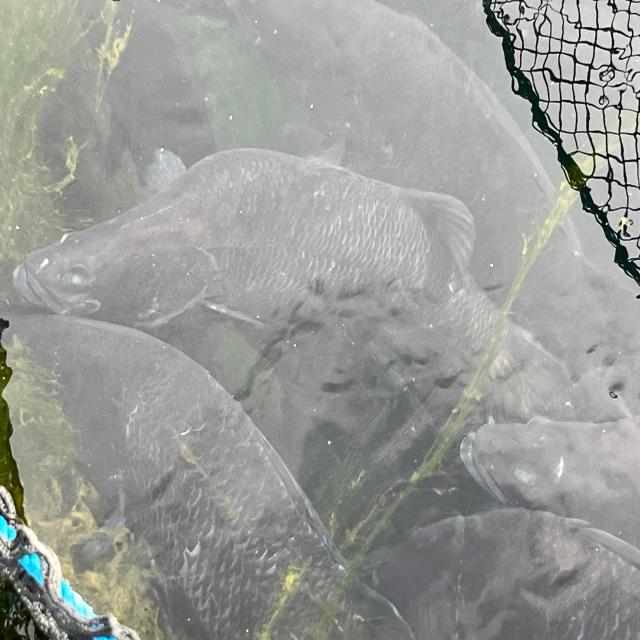ikan: (12, 144, 574, 418), (1, 308, 416, 638)
